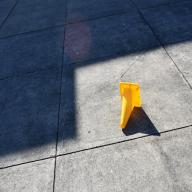cone: (120, 82, 142, 130)
